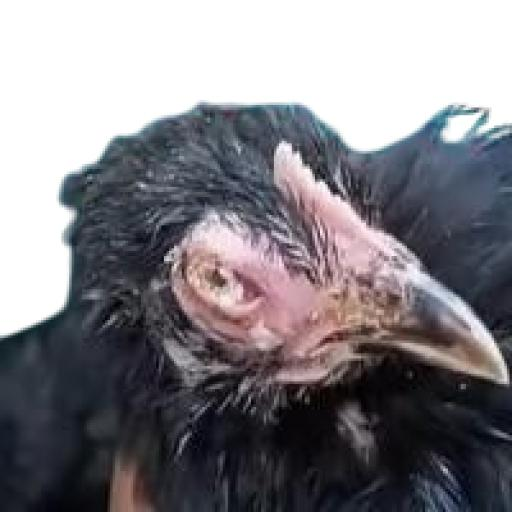disease: (148, 211, 282, 335), (226, 304, 304, 370)
